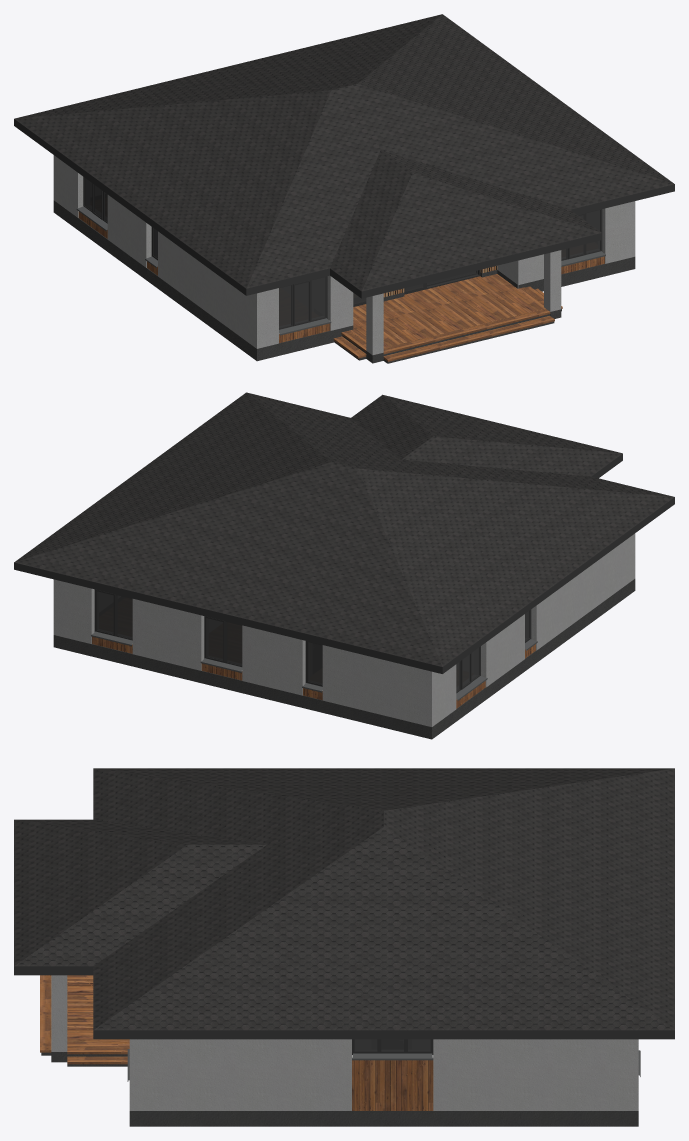
The picture shows the model from 3 angles, top to bottom: view 1: azimuth 30°, elevation 25°; view 2: azimuth 150°, elevation 25°; view 3: azimuth 270°, elevation 25°; orthographic projection. The views are drawn at different scales.
Parts seen in each view (by area): view 1: Material14, Material9, Material10, Material6, Material23, Material41, Material40, Material5; view 2: Material14, Material9, Material6, Material23, Material41, Material40, Material10, Material5; view 3: Material14, Material9, Material6, Material10, Material23, Material41, Material5.
Boxes of the visible parts, x1,y1,x2,y2 form: Material14: (14,14,674,291); Material9: (53,155,635,355); Material10: (78,211,604,361); Material6: (53,200,635,363); Material23: (14,119,674,298); Material41: (84,178,600,328); Material40: (83,177,602,329); Material5: (76,206,605,335); Material14: (14,392,674,666); Material9: (53,533,635,726); Material6: (53,579,635,739); Material23: (14,453,674,673); Material41: (96,591,529,691); Material40: (94,589,531,692); Material10: (92,636,535,708); Material5: (91,631,537,700); Material14: (14,768,674,1030); Material9: (51,975,638,1110); Material6: (41,1052,638,1126); Material10: (40,975,433,1110); Material23: (14,966,674,1039); Material41: (354,1039,430,1051); Material5: (127,1049,640,1081).
Size of the model in its own units: 16.4 by 5.62 by 17.5.
19 materials, 9 textured.
